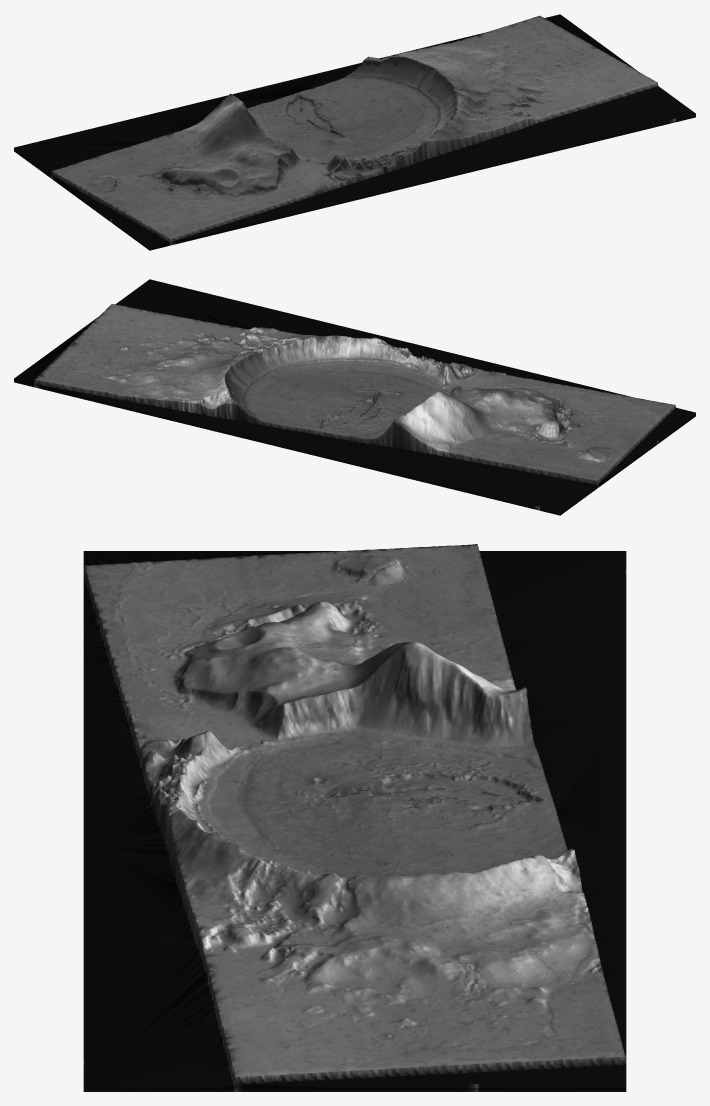
The model's file is zone4_elysium.glb.
3 views of the same model, one above another, from view 1: azimuth 30°, elevation 25°; view 2: azimuth 150°, elevation 25°; view 3: azimuth 270°, elevation 25° (orthographic). The views are drawn at different scales.
Parts seen in each view (by area): view 1: Object_2; view 2: Object_2; view 3: Object_2.
Boxes of the visible parts, x1=… form: Object_2: x1=14, y1=14, x2=695, y2=250; Object_2: x1=14, y1=279, x2=695, y2=515; Object_2: x1=83, y1=544, x2=626, y2=1091.
Bounding box in the file's own units: 39.82 × 2.99 × 17.13.
1 material, 1 textured.
